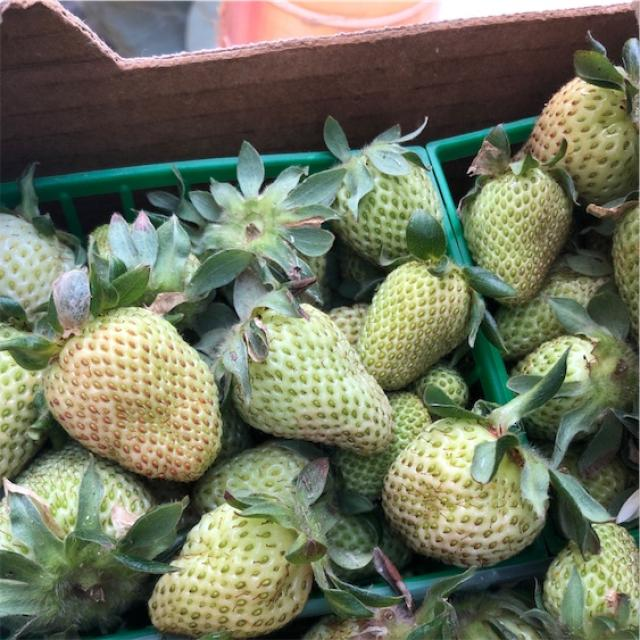immature: (45, 309, 223, 480), (0, 443, 154, 624), (383, 418, 549, 566), (232, 303, 394, 452), (151, 498, 320, 640), (524, 66, 640, 205), (466, 170, 570, 305), (362, 260, 470, 382), (338, 157, 440, 263), (548, 523, 640, 639)
